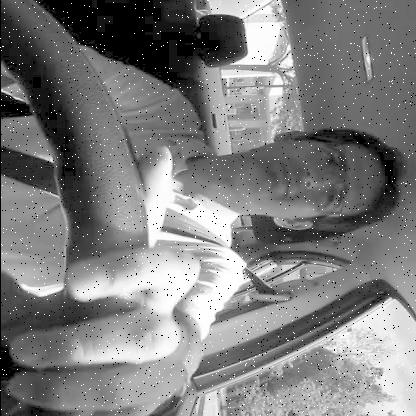seatbelt: (158, 104, 414, 310)
